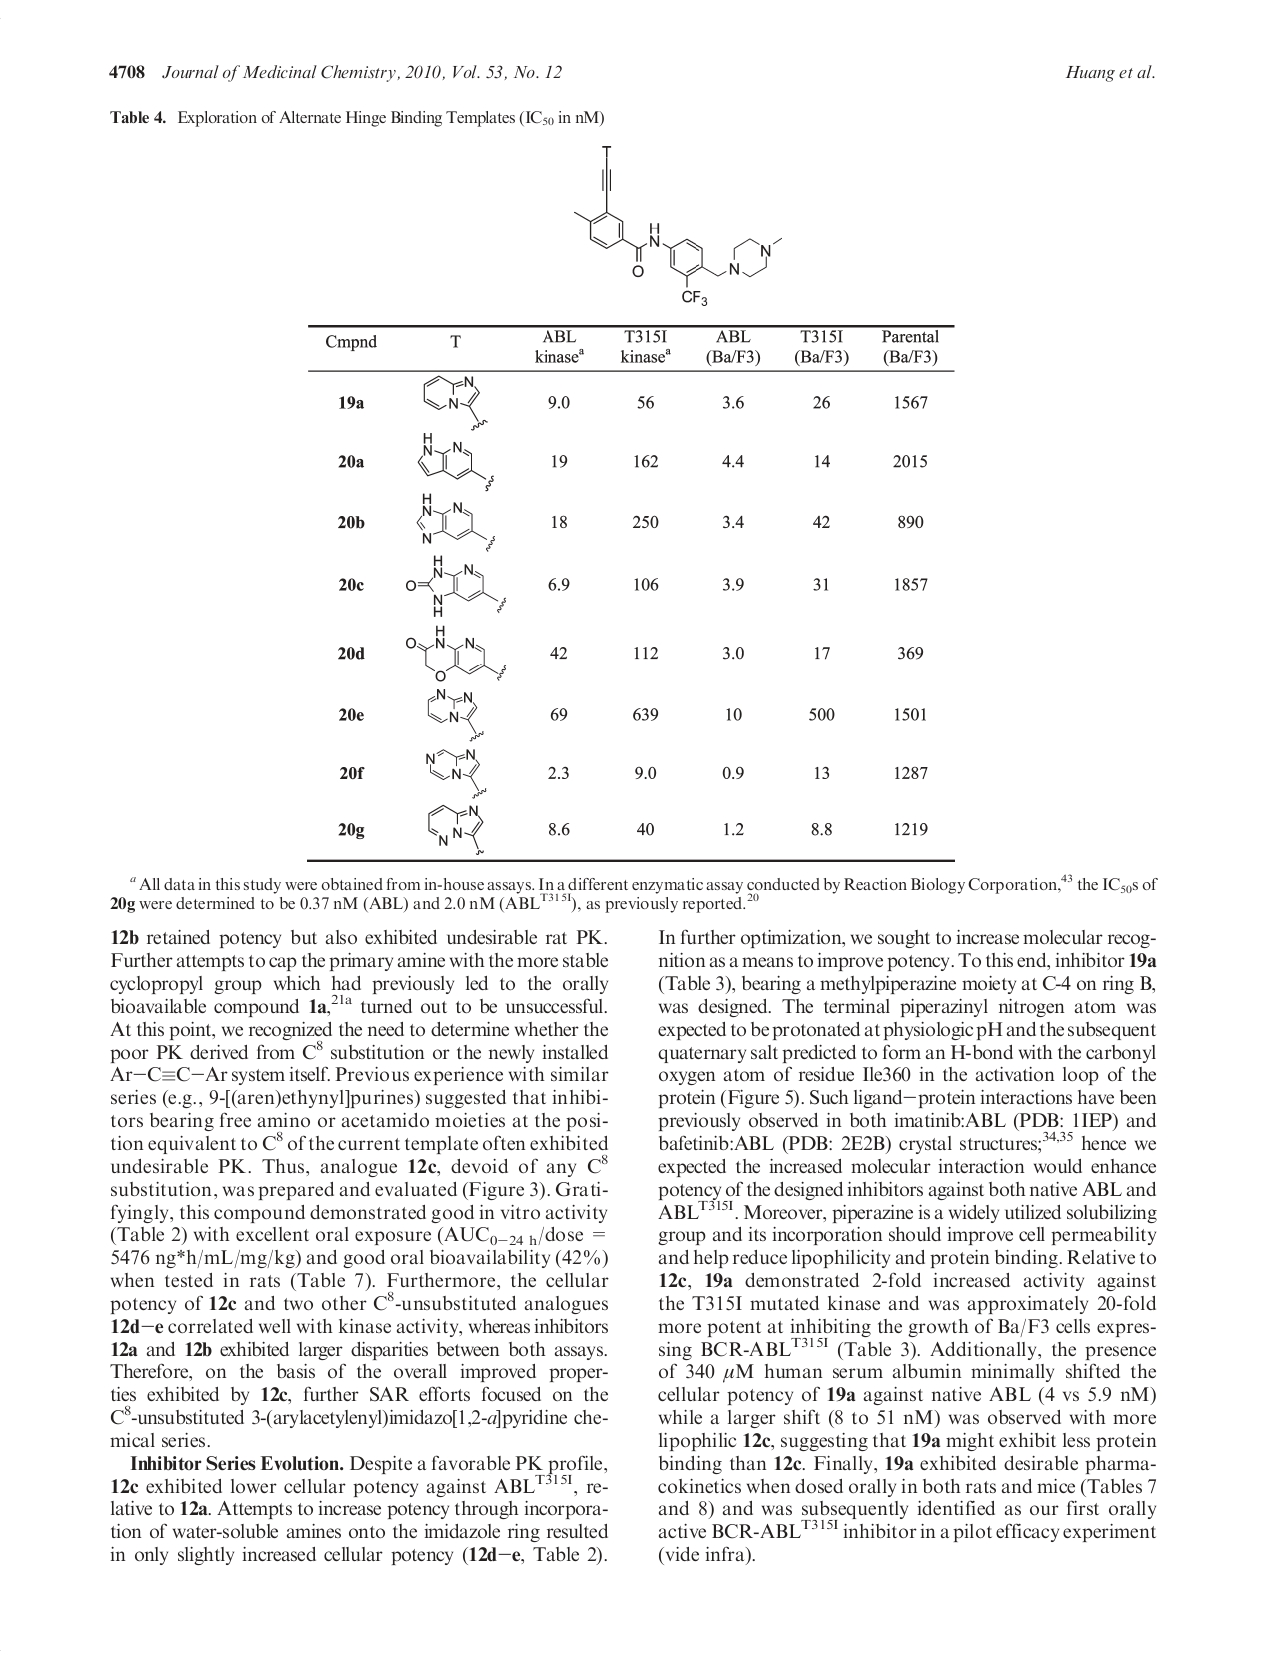exist_molecular: (573, 140, 785, 310), (402, 555, 512, 618), (406, 622, 512, 685), (415, 430, 495, 493), (416, 492, 497, 552), (422, 374, 489, 434), (424, 747, 489, 802), (426, 688, 487, 745), (427, 803, 487, 856)
